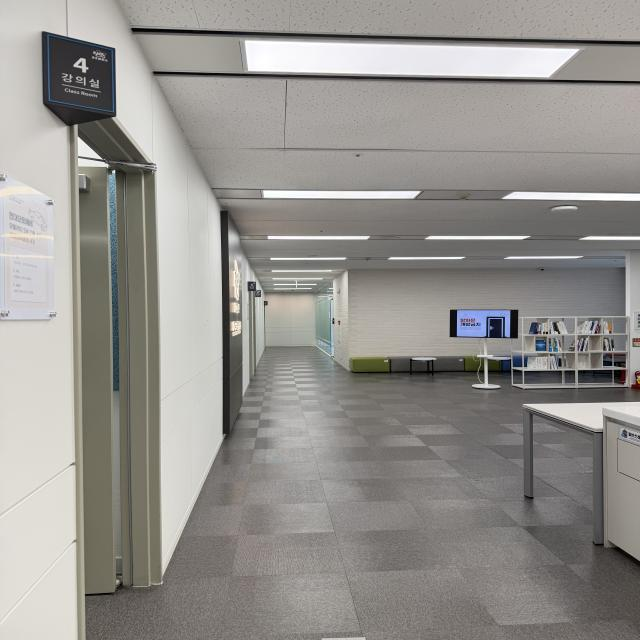sign: (44, 34, 115, 113)
